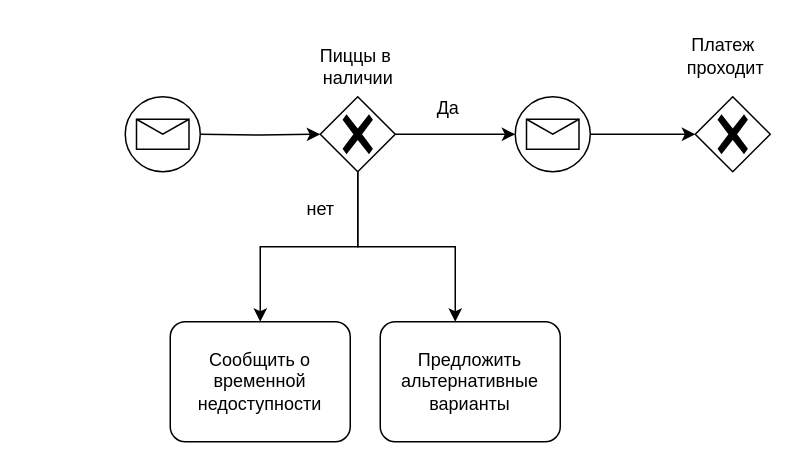
Some shapes in this 804 by 468 pixel diagram are drawn without their labels. The centre of each missing label's shape, as x and y in pixels:
Выбор пиццы и дополнительных опций на сайте: [162,133]
Оплата заказа: [552,133]
